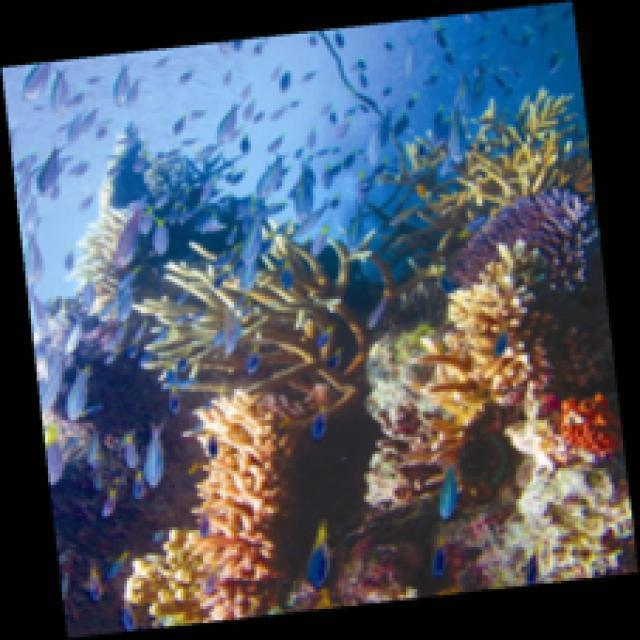Healthy Coral: (144, 188, 390, 420), (180, 392, 317, 624), (432, 240, 564, 440), (462, 179, 614, 299), (443, 97, 582, 207)
